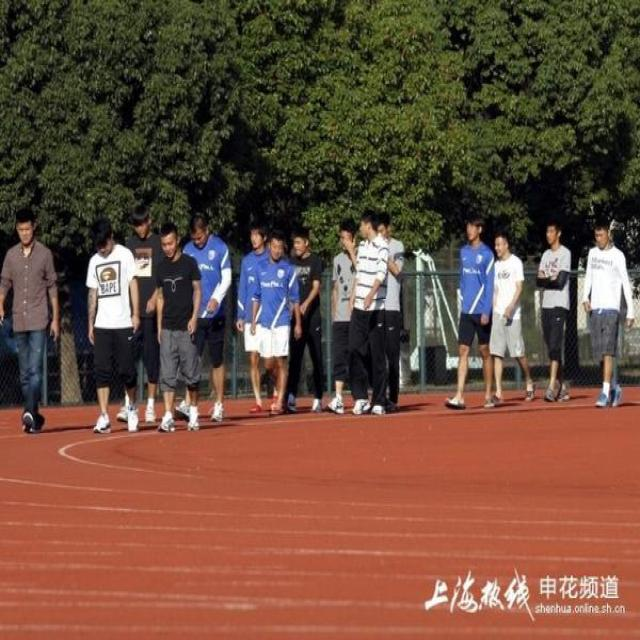non-fight: (0, 200, 64, 425), (81, 214, 145, 432), (147, 218, 204, 432), (578, 215, 634, 407), (342, 211, 393, 413), (479, 229, 531, 403), (530, 219, 578, 403), (248, 233, 296, 414), (414, 235, 452, 394)
